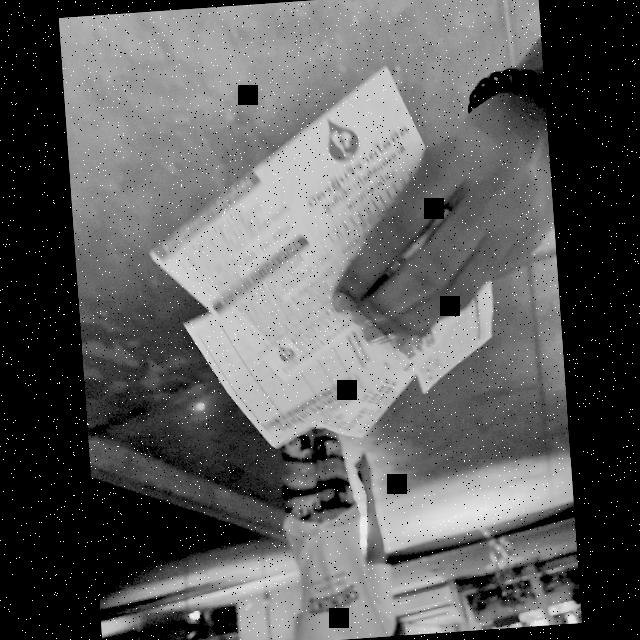scrap_paper: (133, 70, 438, 390), (180, 302, 394, 458), (303, 287, 470, 442), (398, 276, 502, 398)
